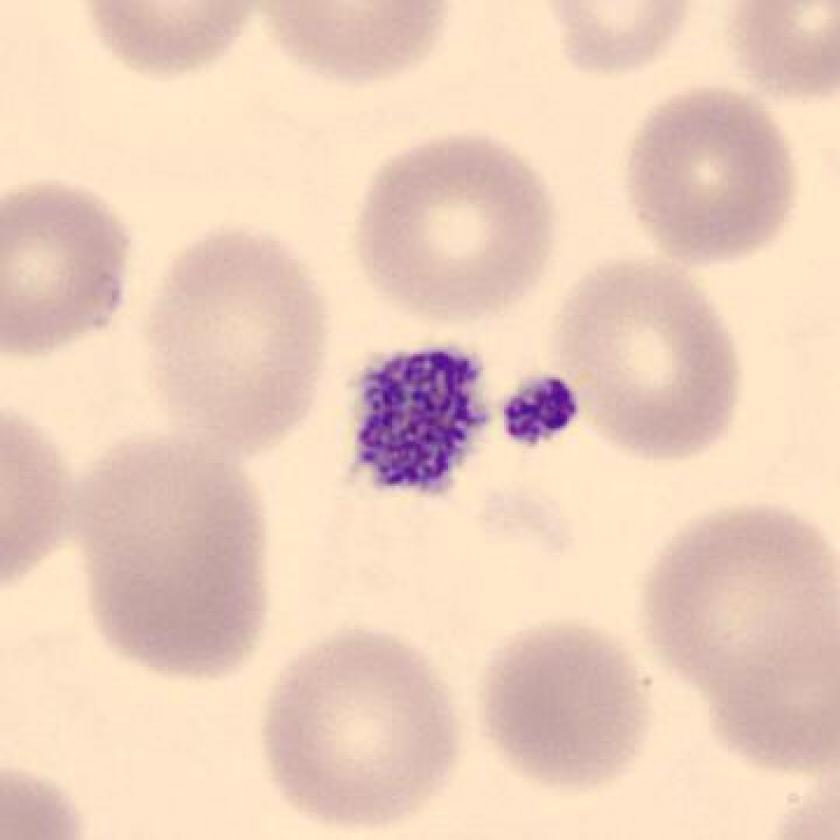platelets: (332, 334, 498, 517), (489, 360, 598, 459)
